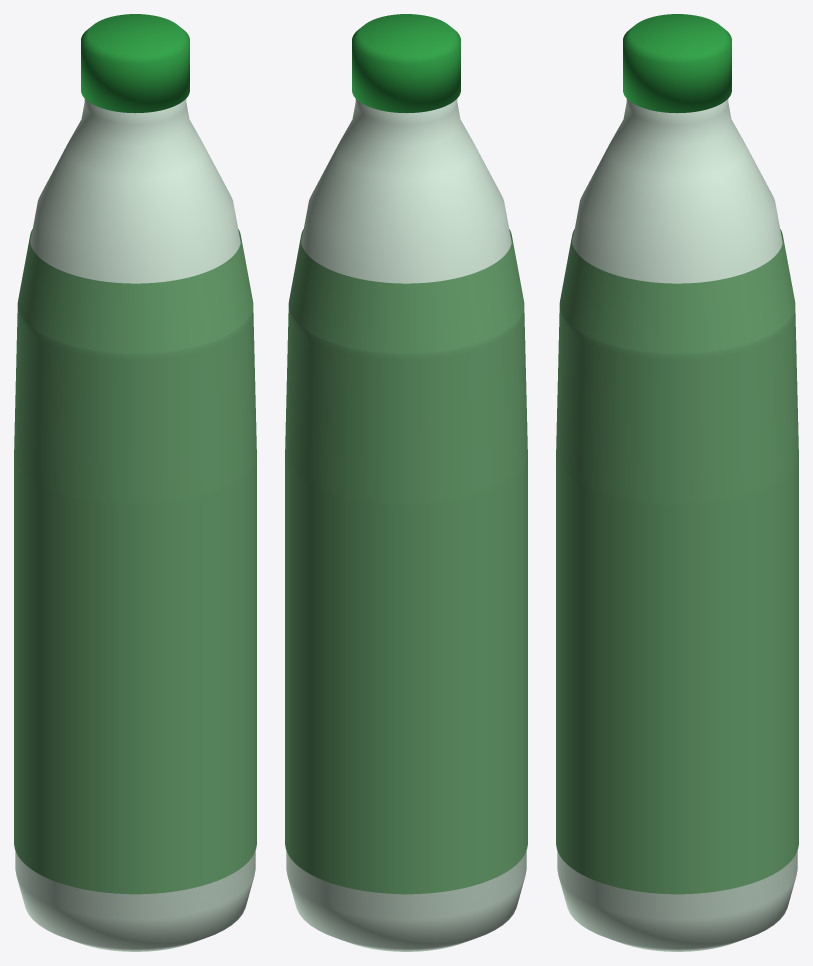
File: soda_lime_minimal.glb
3 renders of one model, left to right at view 1: azimuth 30°, elevation 25°; view 2: azimuth 150°, elevation 25°; view 3: azimuth 270°, elevation 25°, orthographic.
Visible parts, largest first — view 1: Label_band, Glass, Cap; view 2: Label_band, Glass, Cap; view 3: Label_band, Glass, Cap.
Part boxes in pixels (left/top/right/bottom): Label_band: left=14, top=229, right=256, bottom=894; Glass: left=15, top=99, right=255, bottom=951; Cap: left=81, top=14, right=189, bottom=113; Label_band: left=285, top=229, right=527, bottom=894; Glass: left=286, top=99, right=526, bottom=951; Cap: left=352, top=14, right=460, bottom=113; Label_band: left=556, top=229, right=798, bottom=894; Glass: left=557, top=99, right=797, bottom=951; Cap: left=623, top=14, right=731, bottom=113.
Bounding box in the file's own units: 0.0667 × 0.267 × 0.0667.
